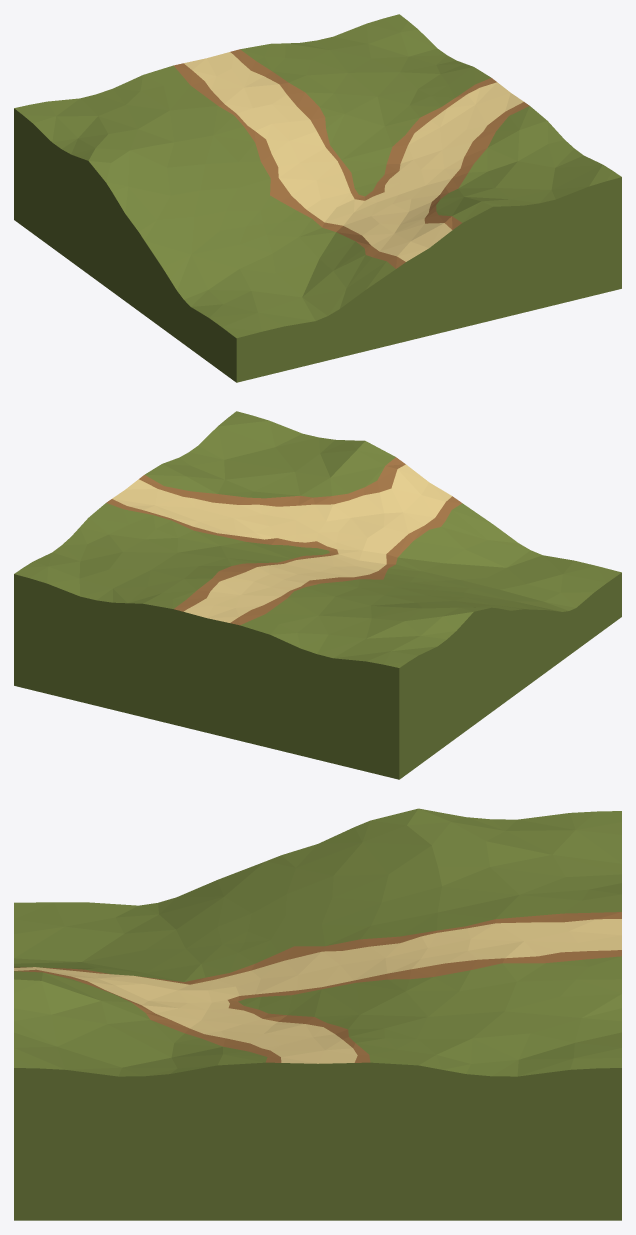
The model's file is Terrian_Road_Int_HillDip-03.fbx.
3 renders of one model, top to bottom at view 1: azimuth 30°, elevation 25°; view 2: azimuth 150°, elevation 25°; view 3: azimuth 270°, elevation 25°, orthographic. The views are drawn at different scales.
Parts seen in each view (by area): view 1: Terrian_Road_Int_HillDip-03; view 2: Terrian_Road_Int_HillDip-03; view 3: Terrian_Road_Int_HillDip-03.
Boxes of the visible parts, x1=… form: Terrian_Road_Int_HillDip-03: x1=14, y1=14, x2=621, y2=382; Terrian_Road_Int_HillDip-03: x1=14, y1=411, x2=621, y2=779; Terrian_Road_Int_HillDip-03: x1=14, y1=808, x2=621, y2=1220.
Size of the model in its own units: 3600 by 1031 by 3600.
Materials: 1 (1 with a texture image).
